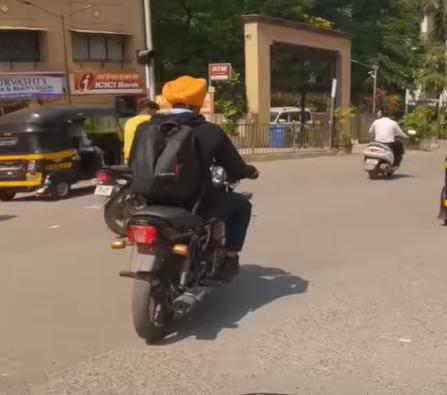rear: (124, 206, 189, 337), (366, 142, 385, 184)
